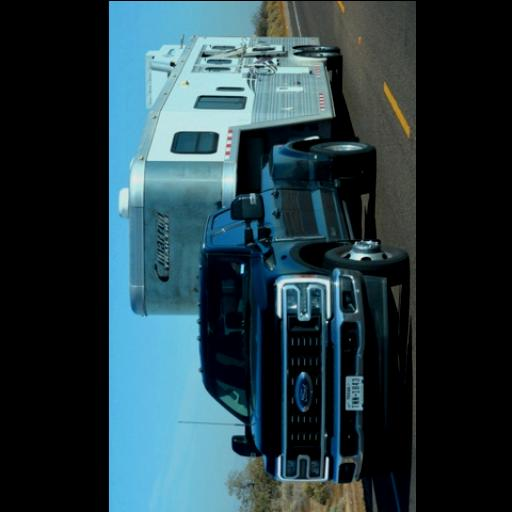truck: (196, 134, 410, 486)
